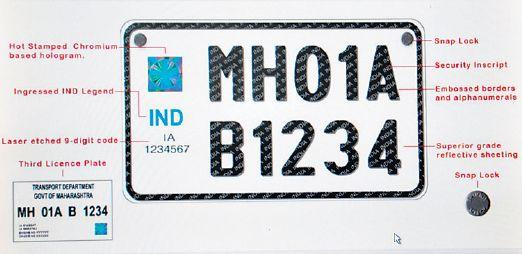number_plate: (120, 19, 428, 201)
